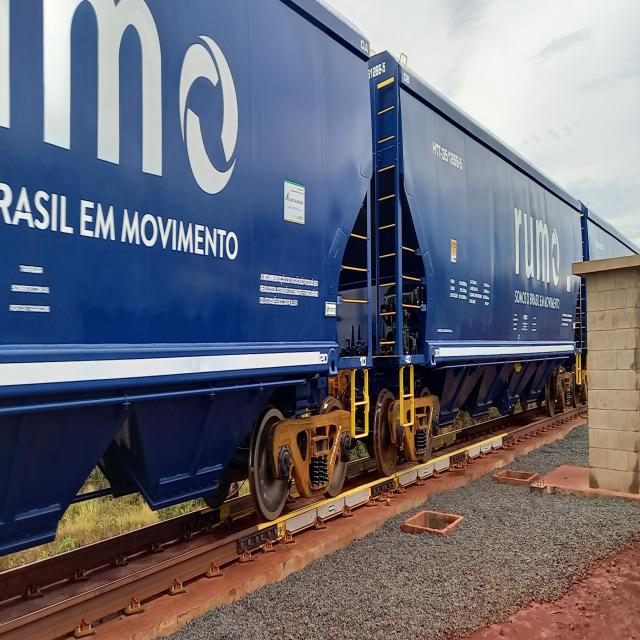hopper: (0, 0, 375, 578), (370, 49, 584, 480)
